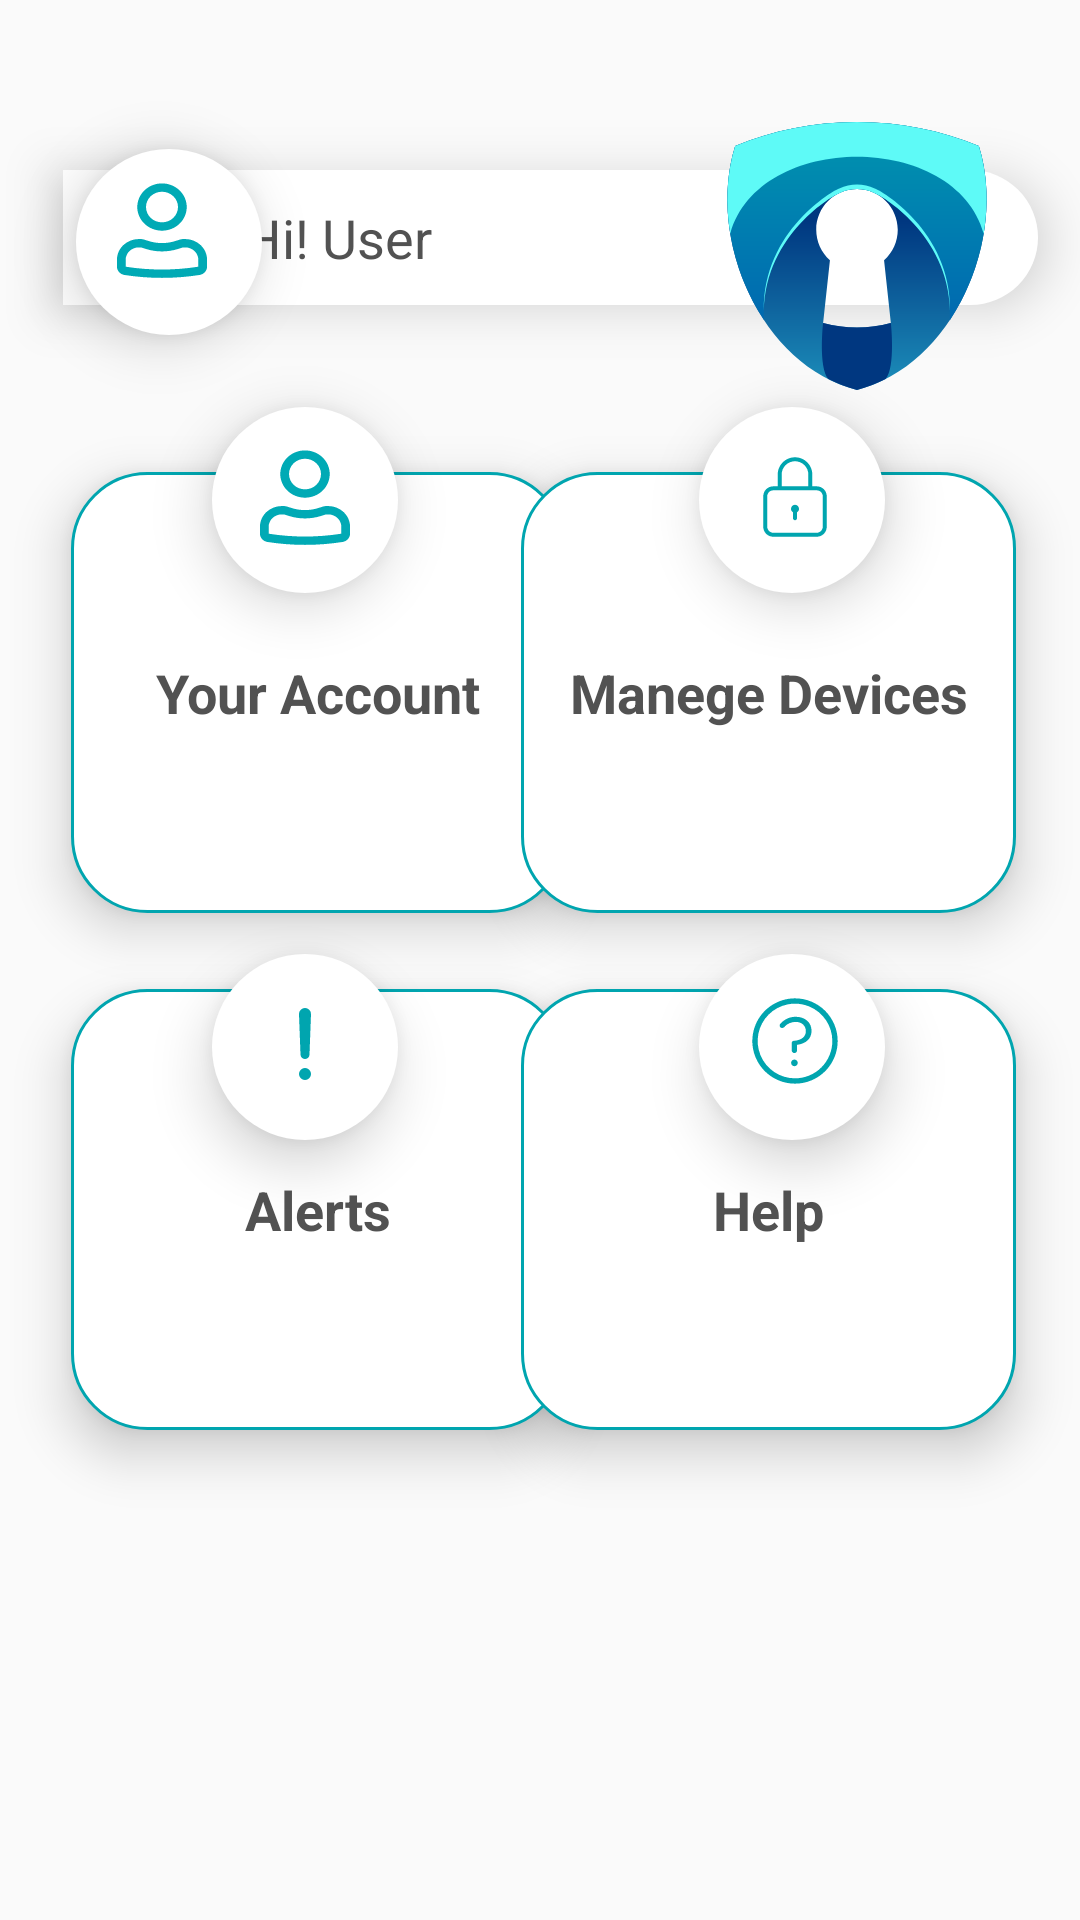

Locate icon controls on the screen. Image size 1080 × 1920, boxes as box(x1, y1, x2, y2).
lock: box(763, 457, 827, 537)
